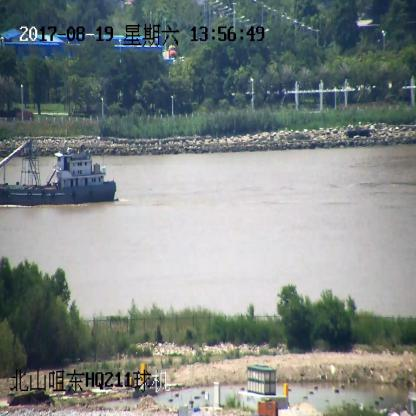Fishing Boat: (0, 142, 118, 206)
